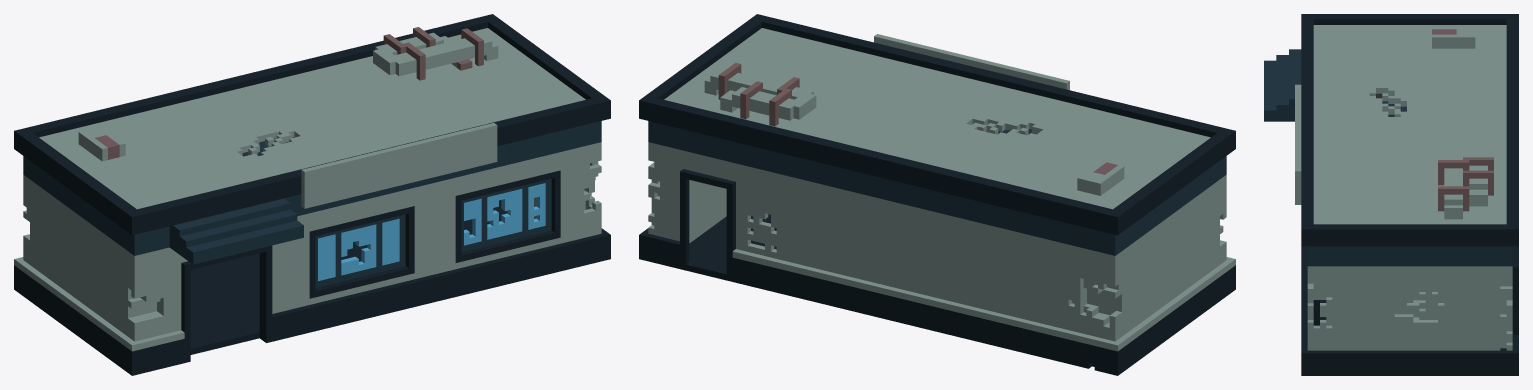
The model's file is nova casinha2.obj.
3 renders of one model, left to right at view 1: azimuth 30°, elevation 25°; view 2: azimuth 150°, elevation 25°; view 3: azimuth 270°, elevation 25°, orthographic. The views are drawn at different scales.
Size of the model in its own units: 8.2 by 2.9 by 4.1.
Materials: 1 (1 with a texture image).
